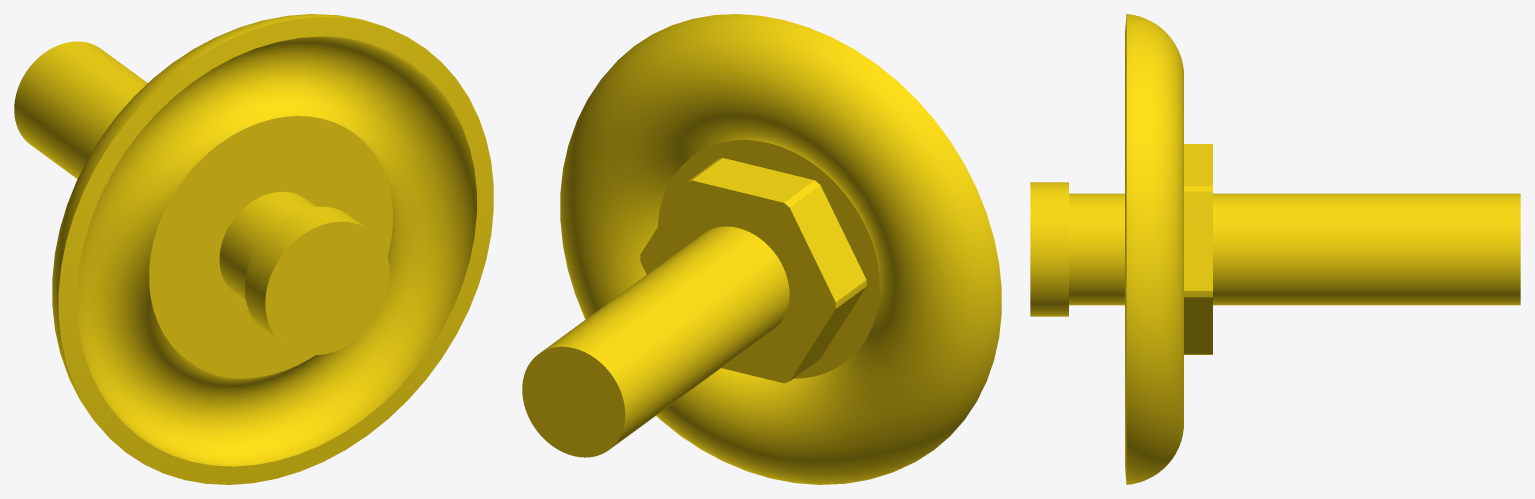
3 views of the same model, side by side, from view 1: azimuth 30°, elevation 25°; view 2: azimuth 150°, elevation 25°; view 3: azimuth 270°, elevation 25° (orthographic). The views are drawn at different scales.
Parts seen in each view (by area): view 1: base; view 2: base; view 3: base.
Part boxes in pixels (bbox=[...]): base: bbox=[14, 14, 493, 484]; base: bbox=[522, 14, 1001, 484]; base: bbox=[1030, 14, 1520, 484].
Bounding box in the file's own units: 0.0245 × 0.0255 × 0.0245.
